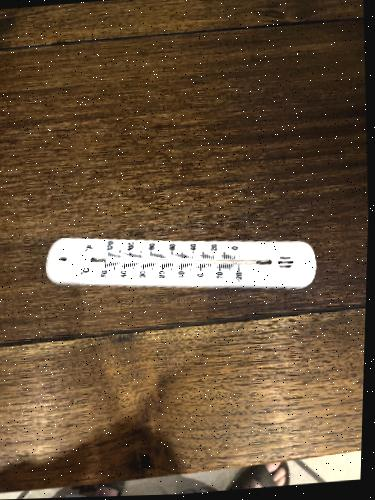thermo: (43, 235, 314, 289)
